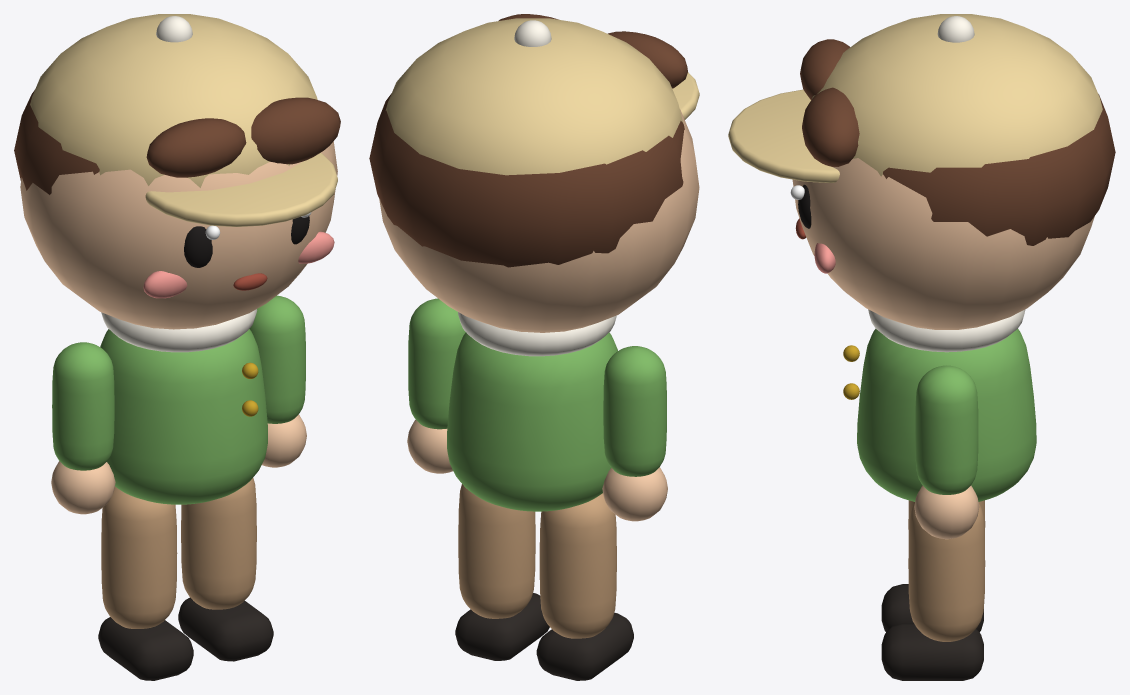
Rendered from char_tourist.glb.
The picture shows the model from 3 angles, left to right: view 1: azimuth 30°, elevation 25°; view 2: azimuth 150°, elevation 25°; view 3: azimuth 270°, elevation 25°; orthographic projection.
Parts seen in each view (by area): view 1: head, body, legR, legL, armR, armL; view 2: head, body, legR, legL, armR, armL; view 3: head, body, legL, armL, legR.
Part boxes in pixels (box(x1,y1,x2,y2)): head: box(14, 14, 340, 329); body: box(100, 309, 267, 504); legR: box(98, 487, 193, 680); legL: box(178, 477, 273, 661); armR: box(51, 342, 115, 514); armL: box(249, 295, 306, 467); head: box(369, 14, 699, 332); body: box(447, 312, 617, 511); legR: box(536, 493, 633, 680); legL: box(455, 484, 549, 660); armR: box(602, 346, 667, 521); armL: box(407, 298, 465, 473); head: box(728, 14, 1115, 329); body: box(843, 309, 1036, 501); legL: box(881, 503, 985, 680); armL: box(914, 365, 979, 539); legR: box(881, 500, 985, 632).
Size of the model in its own units: 0.6928 by 1.51 by 0.8332.
